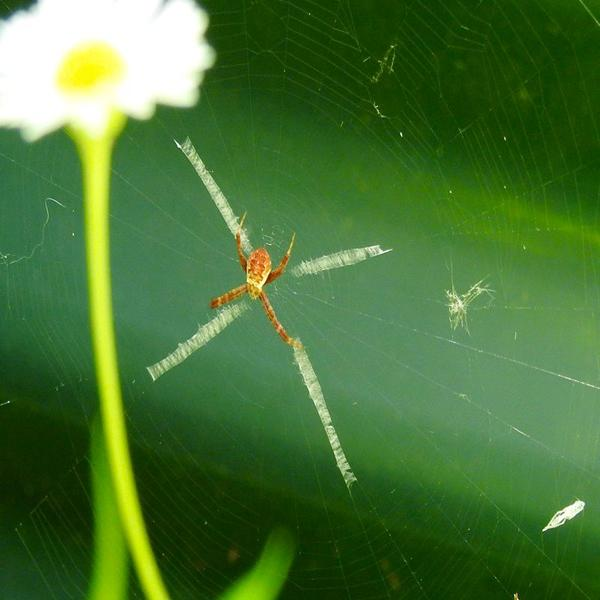St Andrew's Cross Spider: (211, 211, 301, 348)
